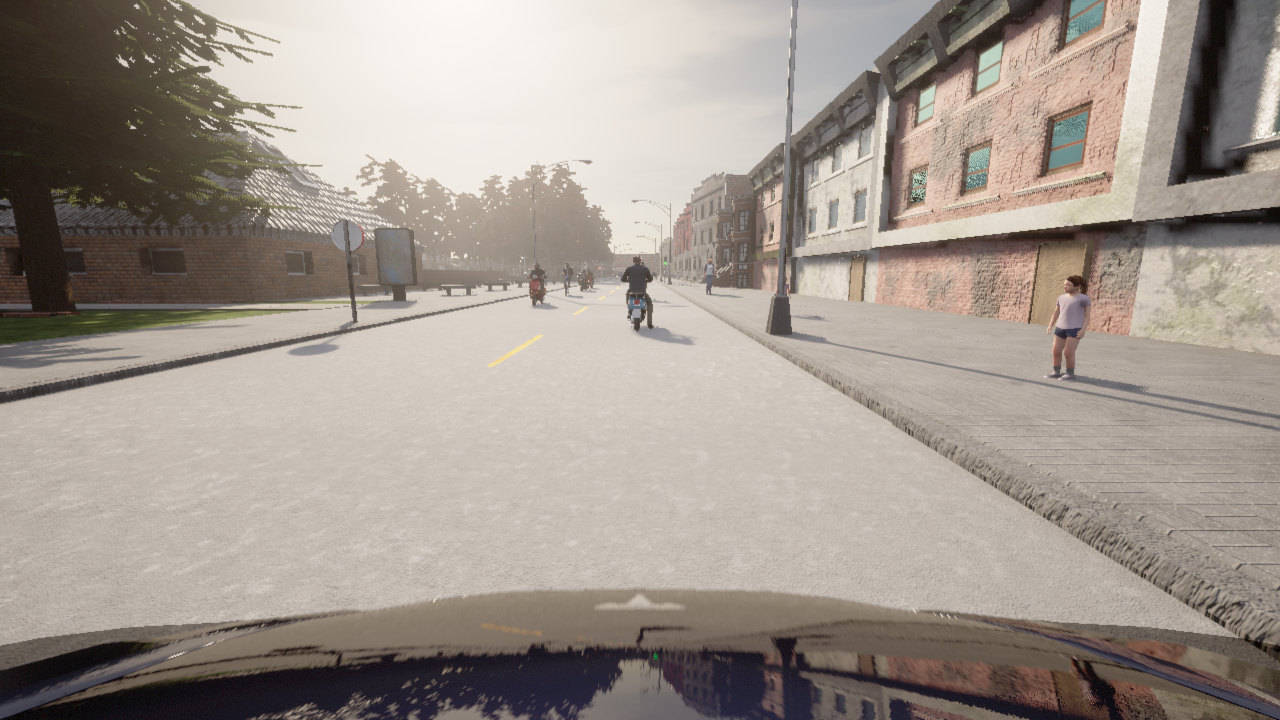cyclist: (0, 588, 1279, 719), (618, 271, 656, 330), (525, 272, 546, 305), (576, 273, 588, 290), (565, 275, 570, 295), (587, 274, 594, 288)
pedestrian: (1044, 275, 1090, 380), (704, 258, 714, 294), (784, 276, 791, 298)
